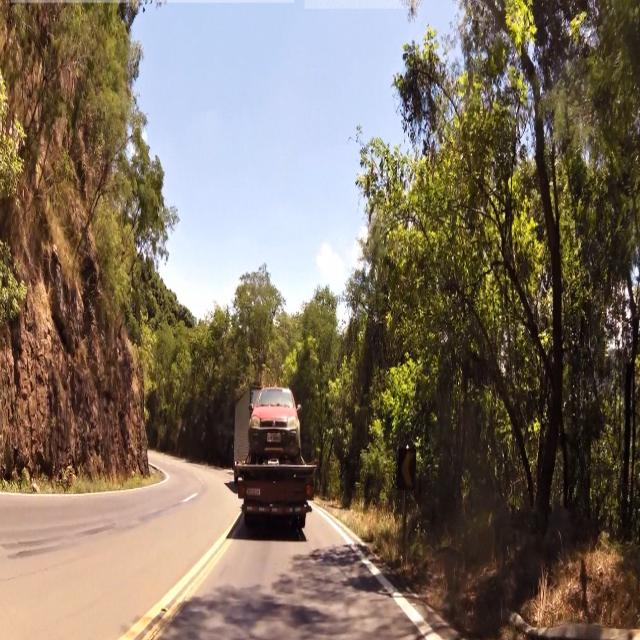Del: (396, 444, 416, 490)
